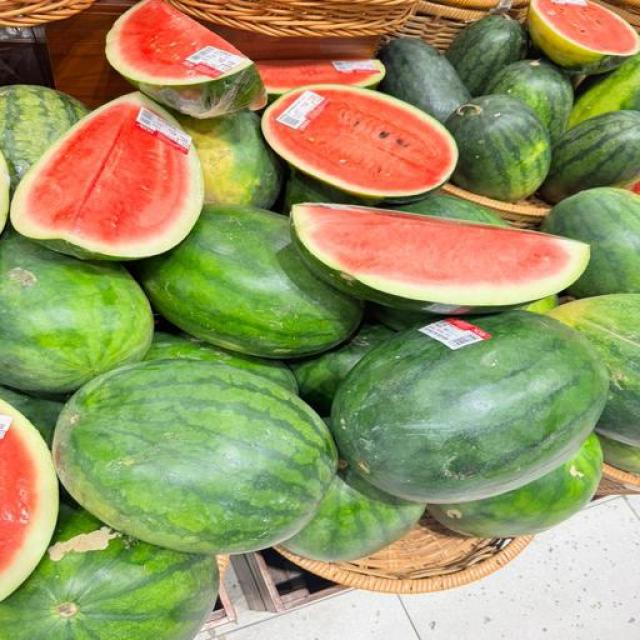organic: (54, 359, 336, 553), (332, 312, 608, 502), (138, 205, 362, 358), (290, 204, 588, 314), (10, 93, 202, 261), (0, 505, 218, 639), (292, 205, 517, 314), (0, 233, 153, 392), (27, 102, 189, 247), (262, 84, 457, 202), (304, 205, 571, 287), (263, 85, 456, 193), (105, 2, 266, 118), (428, 434, 602, 537), (549, 294, 639, 446), (283, 469, 424, 561), (0, 398, 58, 608), (447, 95, 551, 202), (543, 188, 639, 297), (177, 110, 283, 208), (118, 0, 243, 79), (290, 324, 393, 416), (540, 110, 639, 203), (144, 332, 297, 392), (0, 85, 88, 189), (527, 0, 639, 81), (122, 64, 266, 118), (379, 39, 469, 122), (283, 169, 452, 213), (487, 60, 573, 141), (447, 14, 526, 96), (255, 59, 386, 103), (0, 428, 38, 574), (537, 0, 637, 54), (569, 54, 639, 126), (283, 169, 378, 214), (257, 59, 381, 92), (394, 192, 508, 227), (393, 193, 508, 226), (0, 387, 63, 446), (368, 303, 443, 331), (368, 303, 438, 331), (599, 434, 639, 473), (560, 55, 626, 78), (0, 153, 9, 233), (522, 295, 558, 313), (29, 392, 71, 403), (632, 182, 639, 193)
